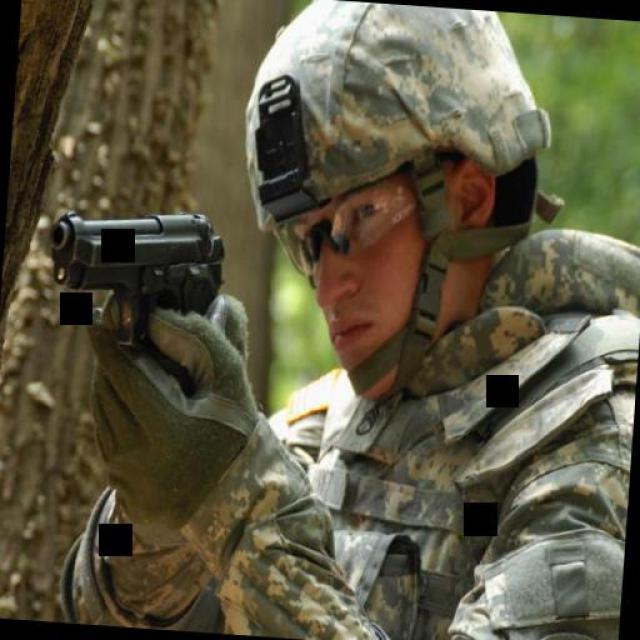gun: (39, 192, 236, 394)
